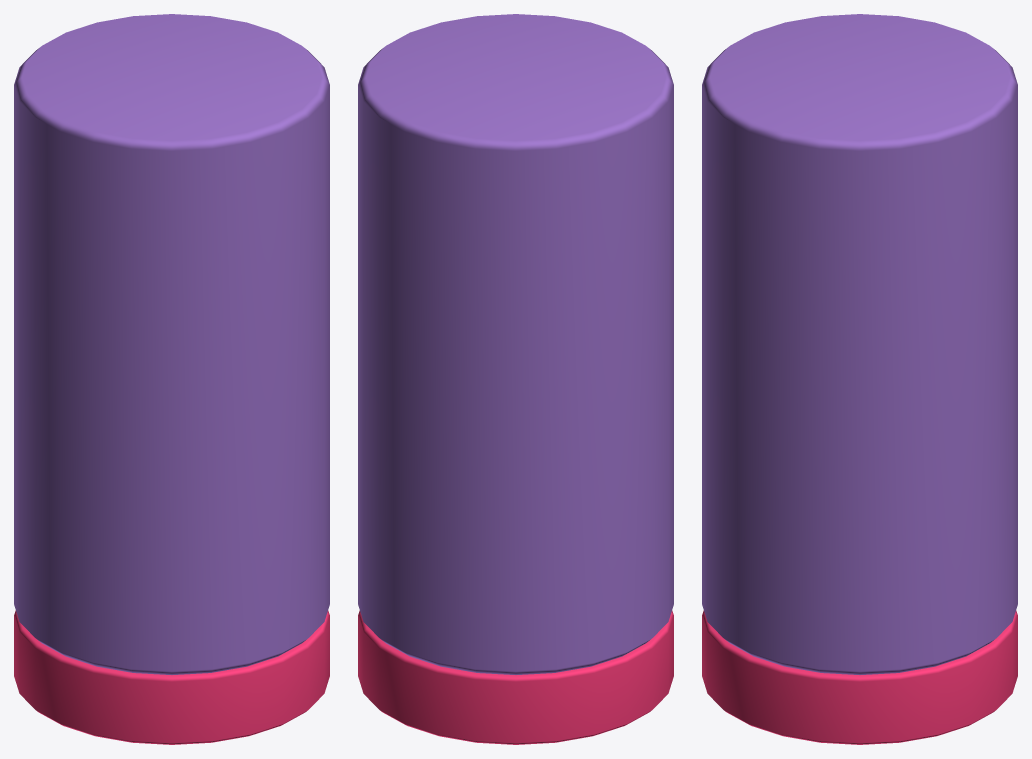
The model's file is Store_17_Lipstick_Cap_1.glb.
3 renders of one model, left to right at view 1: azimuth 30°, elevation 25°; view 2: azimuth 150°, elevation 25°; view 3: azimuth 270°, elevation 25°, orthographic.
Parts seen in each view (by area): view 1: Store_17_Lipstick_Cap_1; view 2: Store_17_Lipstick_Cap_1; view 3: Store_17_Lipstick_Cap_1.
Boxes of the visible parts, x1,y1,x2,y2 form: Store_17_Lipstick_Cap_1: (14,14,329,744); Store_17_Lipstick_Cap_1: (358,14,673,744); Store_17_Lipstick_Cap_1: (702,14,1017,744).
Bounding box in the file's own units: 0.3385 × 0.7128 × 0.3385.
1 material, 1 textured.
